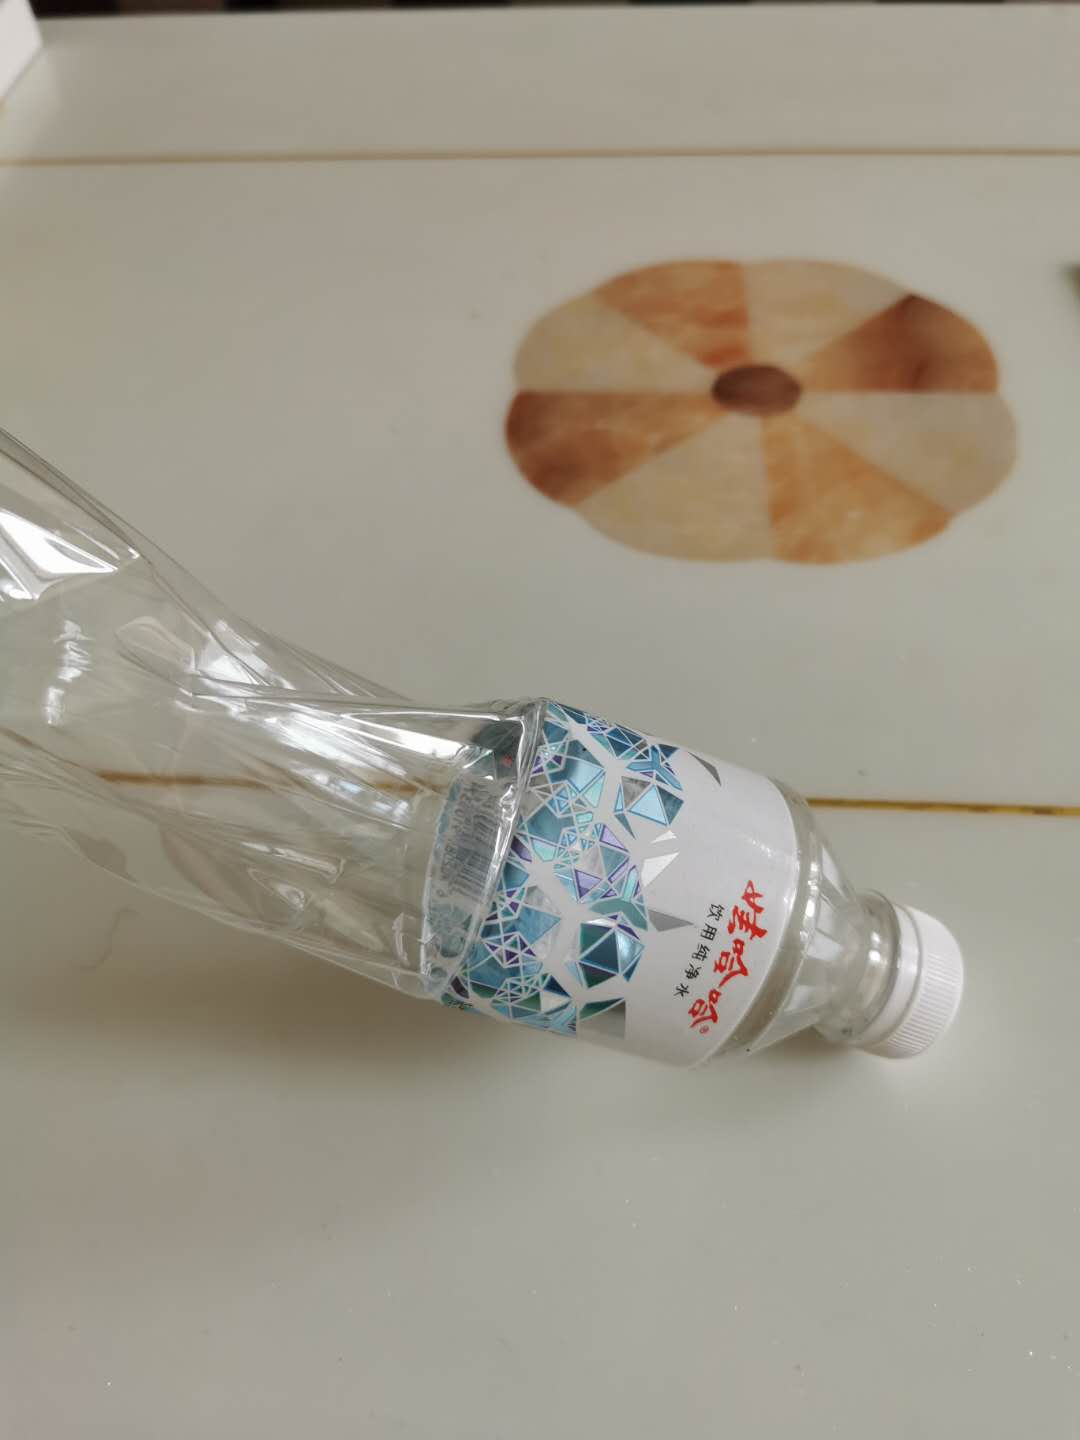哇哈哈: (15, 415, 978, 1071)
